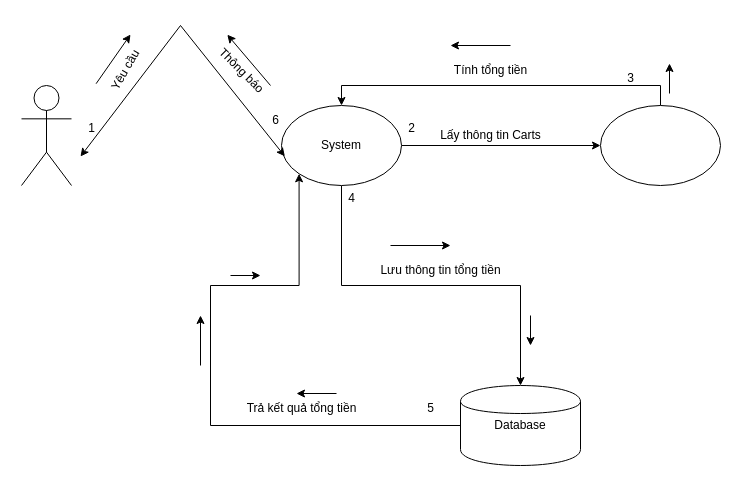
The diagram is 738 pixels wide and 483 high, and some of its shapes have lost their labels. Each missing label, with the box of its shape:
Carts: (600, 104, 720, 186)
Customers: (20, 84, 72, 186)
